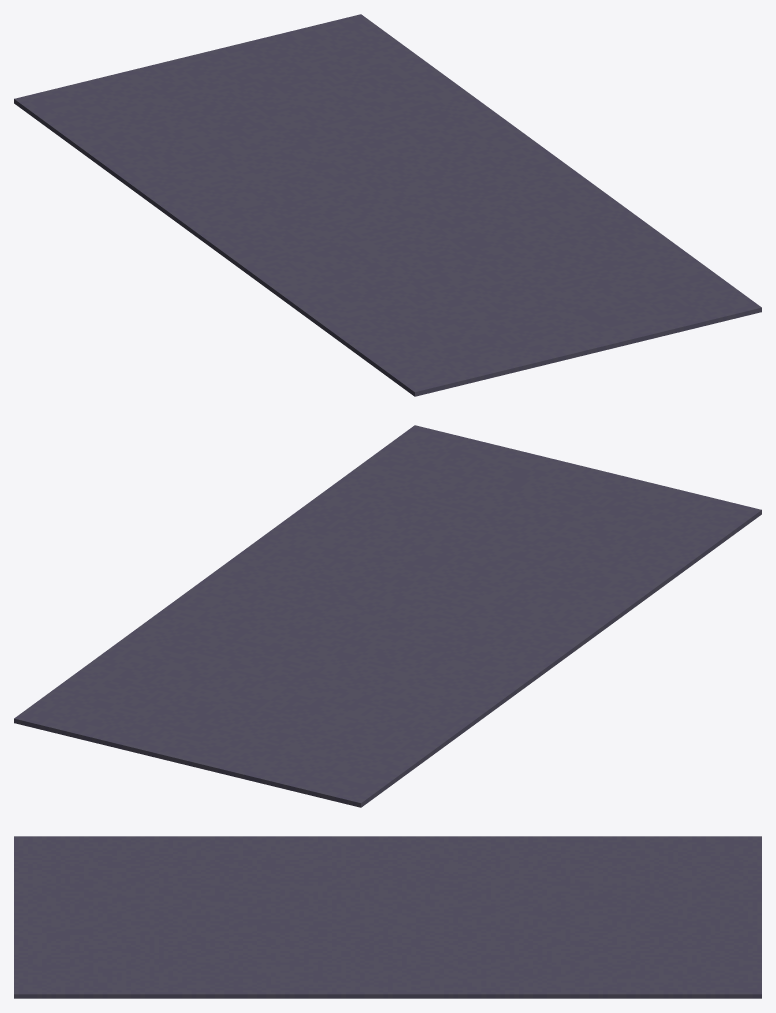
The model's file is floor_01_XL.glb.
3 renders of one model, top to bottom at view 1: azimuth 30°, elevation 25°; view 2: azimuth 150°, elevation 25°; view 3: azimuth 270°, elevation 25°, orthographic. The views are drawn at different scales.
Visible parts, largest first — view 1: Untitled; view 2: Untitled; view 3: Untitled.
Boxes of the visible parts, x1,y1,x2,y2 form: Untitled: [14, 14, 761, 396]; Untitled: [14, 425, 761, 807]; Untitled: [14, 836, 761, 998].
Size of the model in its own units: 2.4 by 0.03 by 4.8.
1 material, 1 textured.
